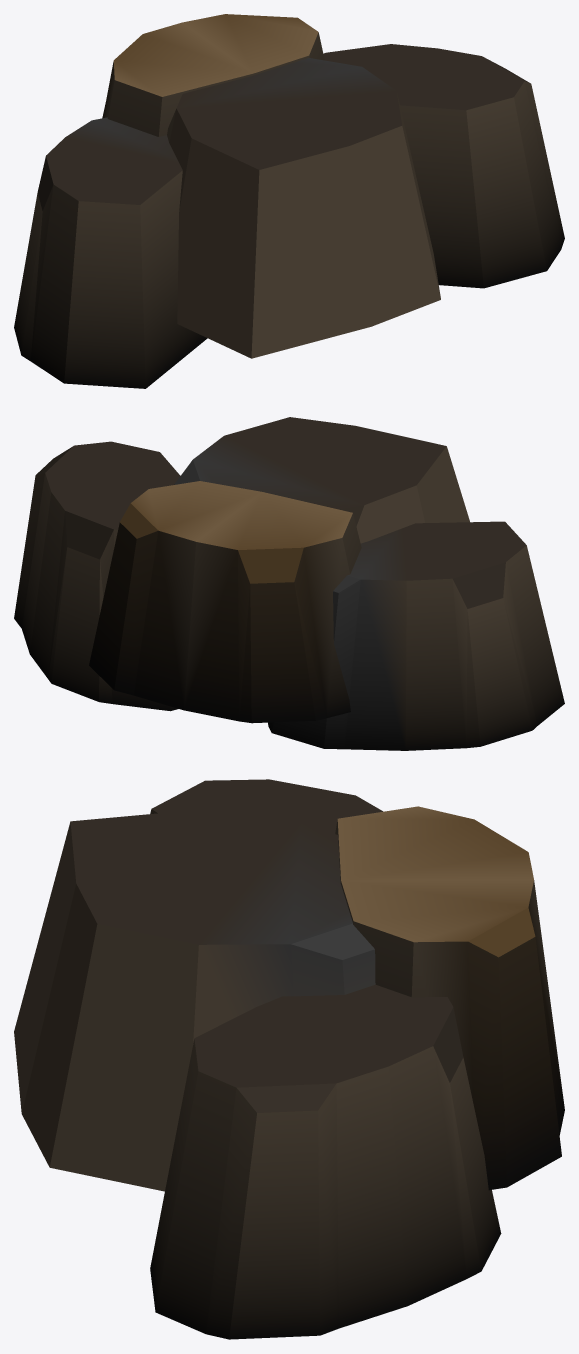
File: Castle Hill.fbx
3 renders of one model, top to bottom at view 1: azimuth 30°, elevation 25°; view 2: azimuth 150°, elevation 25°; view 3: azimuth 270°, elevation 25°, orthographic. The views are drawn at different scales.
Visible parts, largest first — view 1: Castle Hill; view 2: Castle Hill; view 3: Castle Hill.
Part boxes in pixels (<box>): Castle Hill: <box>14,14,564,388</box>; Castle Hill: <box>14,417,564,750</box>; Castle Hill: <box>14,779,564,1339</box>.
Bounding box in the file's own units: 194 × 71.49 × 128.
